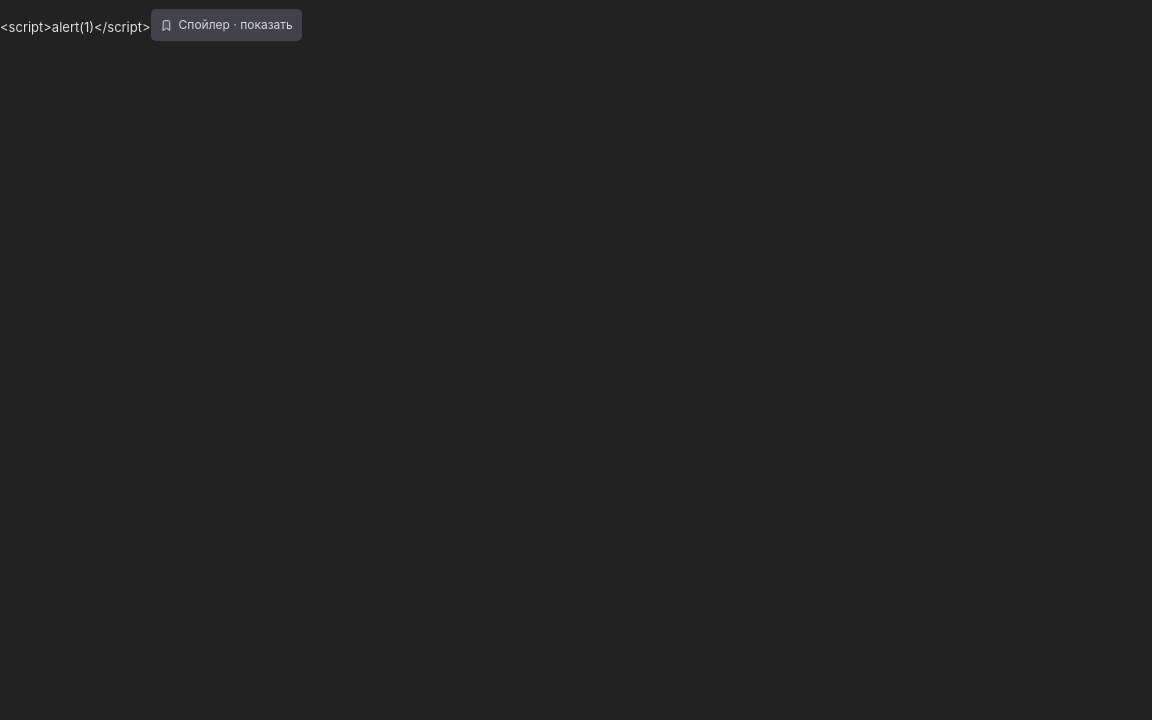
Test: YummyAnime discussion › renders untrusted comment markup as text and keeps spoilers collapsed
Expected: the text "секрет" is not shown
Click the button "Показать спойлер" at (226, 25), box [151, 9, 302, 41]
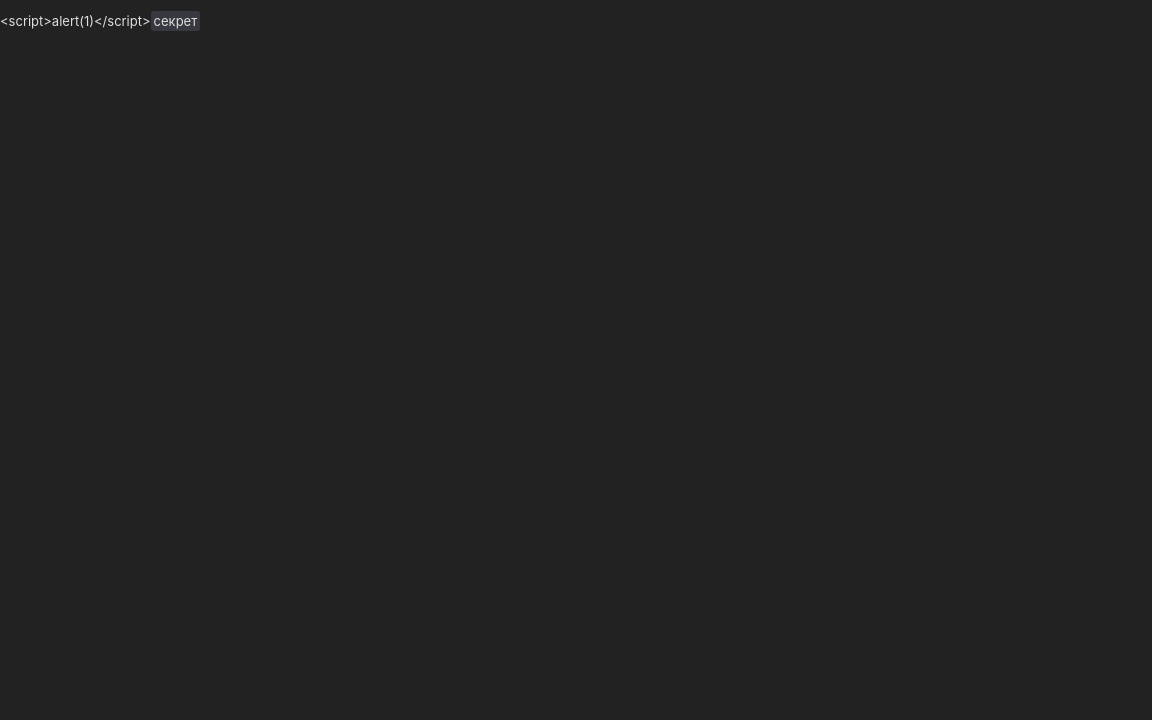
Now the text "секрет" is shown, box [151, 11, 200, 31]
